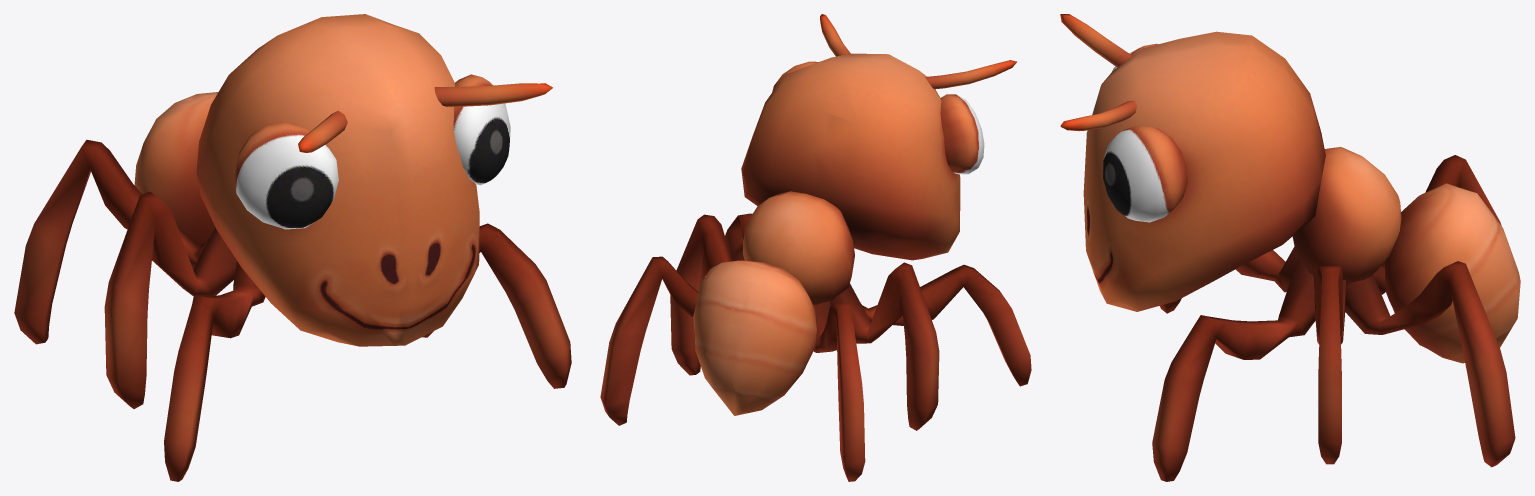
File: ant.glb
3 renders of one model, left to right at view 1: azimuth 30°, elevation 25°; view 2: azimuth 150°, elevation 25°; view 3: azimuth 270°, elevation 25°, orthographic. The views are drawn at different scales.
Parts seen in each view (by area): view 1: ant; view 2: ant; view 3: ant.
Boxes of the visible parts, x1,y1,x2,y2 form: ant: [14, 14, 571, 481]; ant: [600, 14, 1031, 481]; ant: [1060, 14, 1520, 481].
Bounding box in the file's own units: 0.9658 × 0.8834 × 1.04.
Materials: 1 (1 with a texture image).
